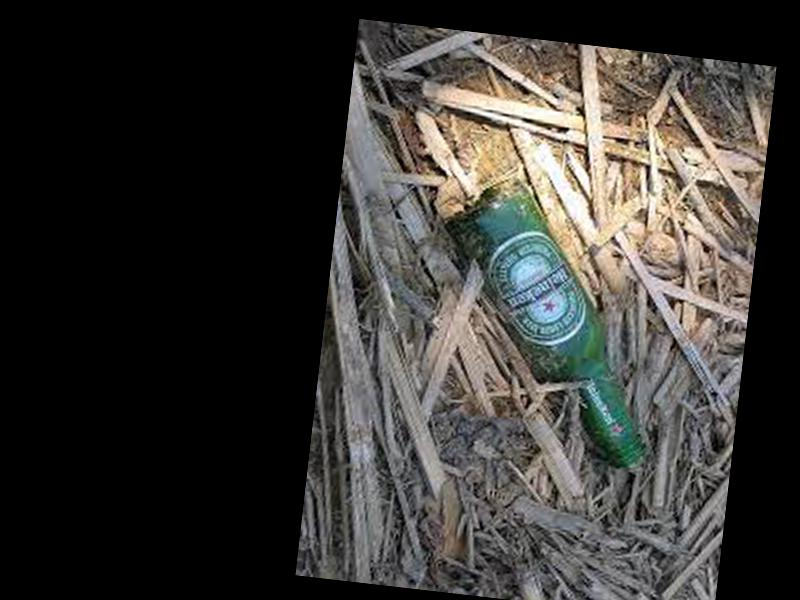Beer: (422, 173, 671, 473)
